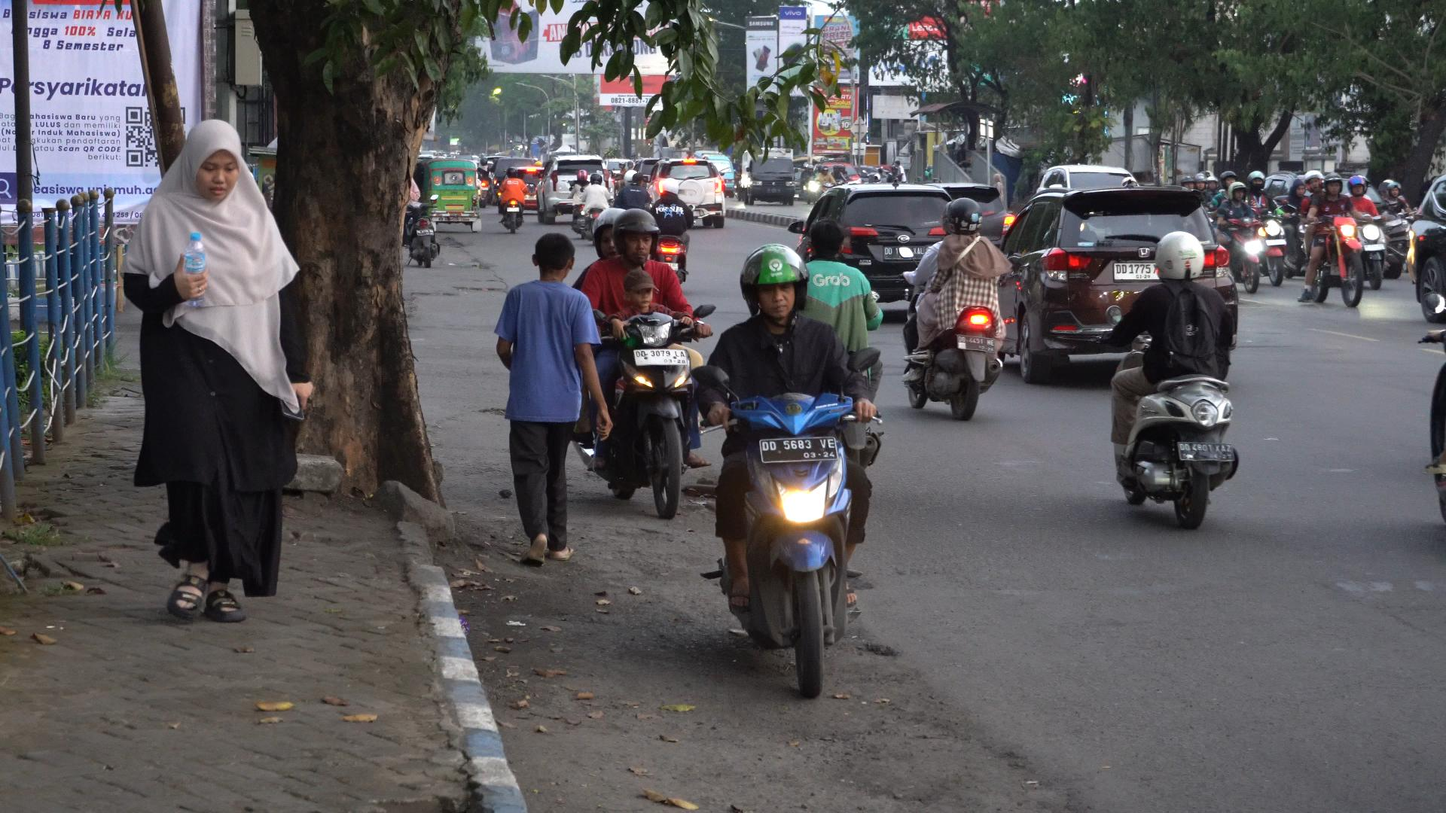number-plate: (758, 432, 837, 465), (633, 345, 691, 369)
